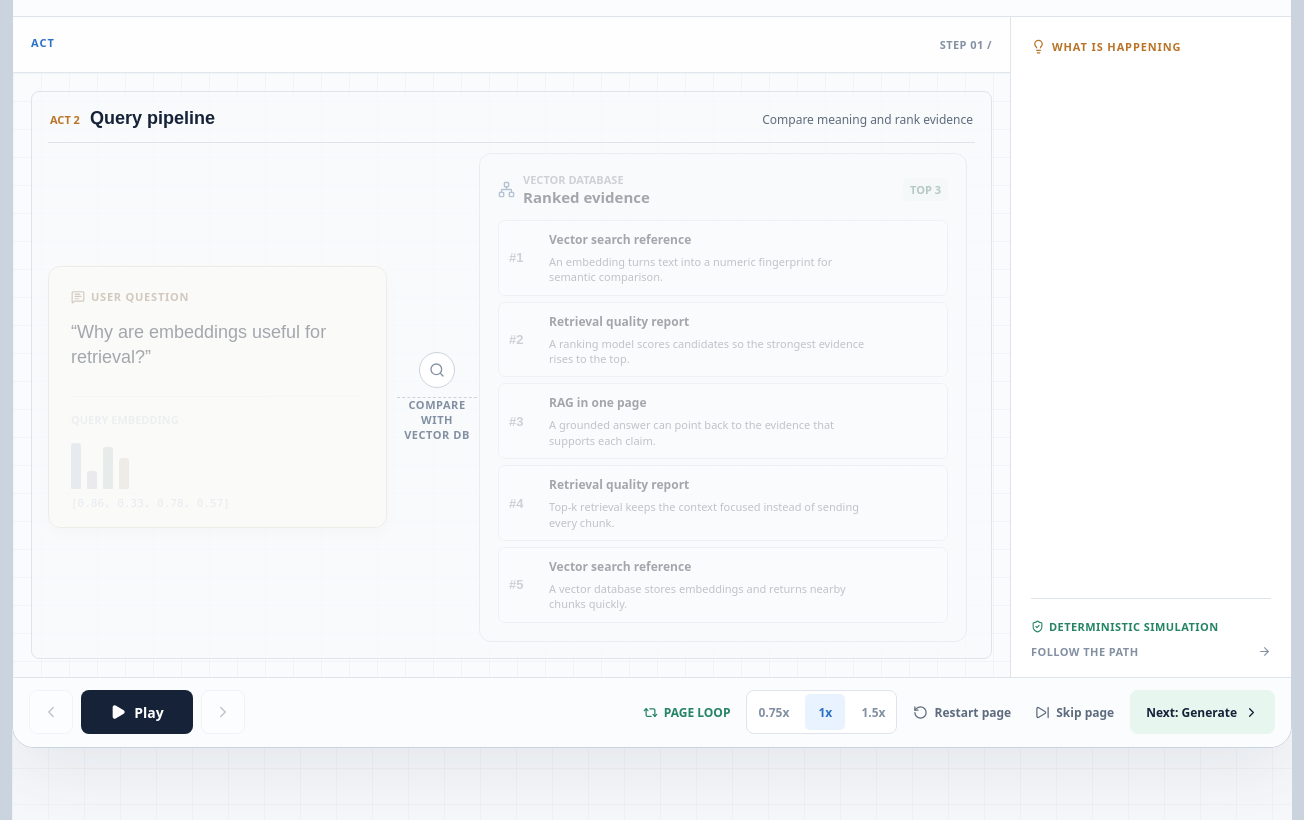
RagDemo routing and history › carries the question in the URL when advancing from retrieve to generate
(page scrolled)
Click the button "Next: Generate" at (1203, 712), box [1130,690,1275,734]
(page scrolled)
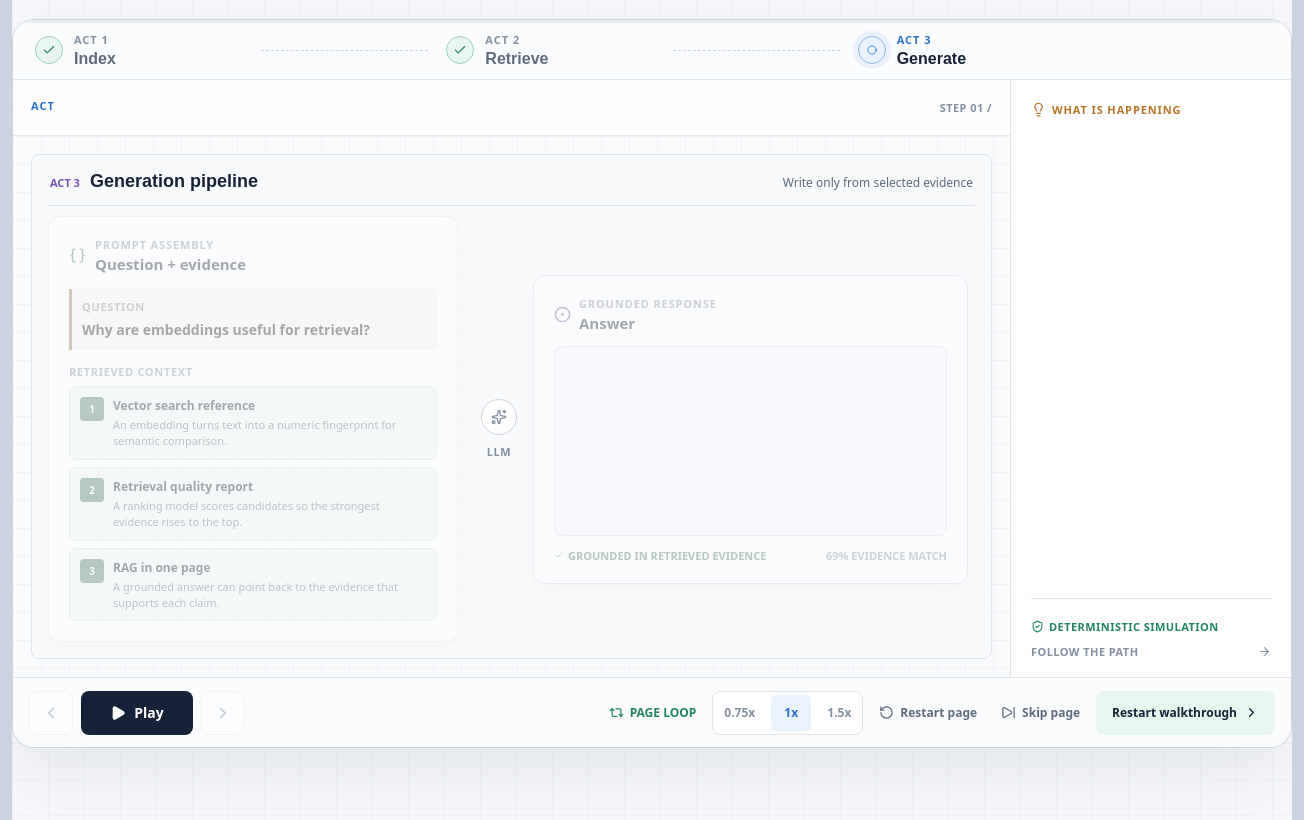
Now the element "Generation pipeline" is shown, box [31,154,992,659]
